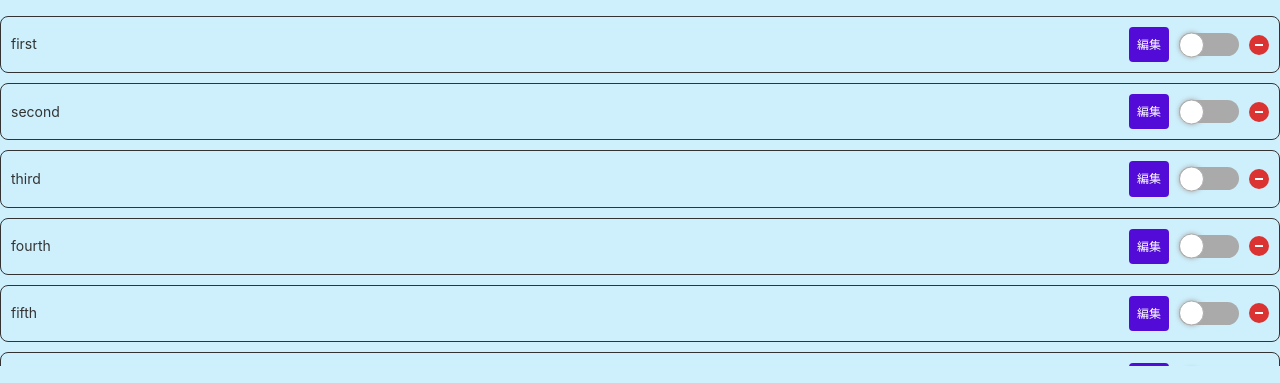
Test: TodoList › 編集テスト
Click the text "first": x=24, y=44 [11,35,37,52]
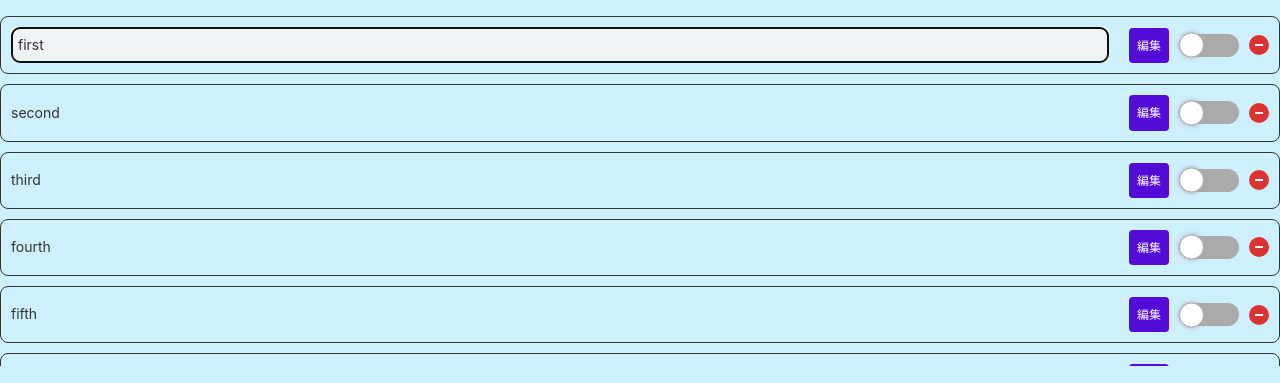
Replace the text in the field with "first changed": x=560, y=45 [11,27,1109,63]
Then press Enter
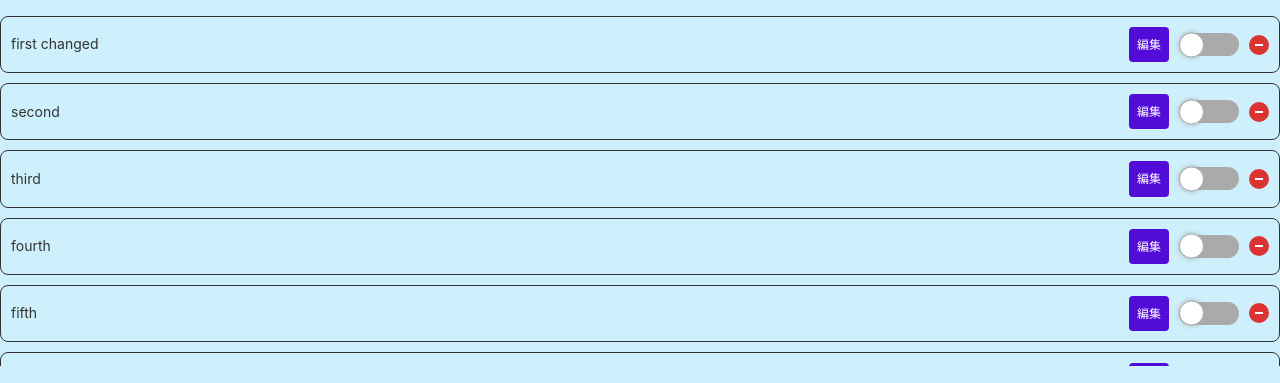
Expected: the text "first changed" is shown, [11,35,98,52]
